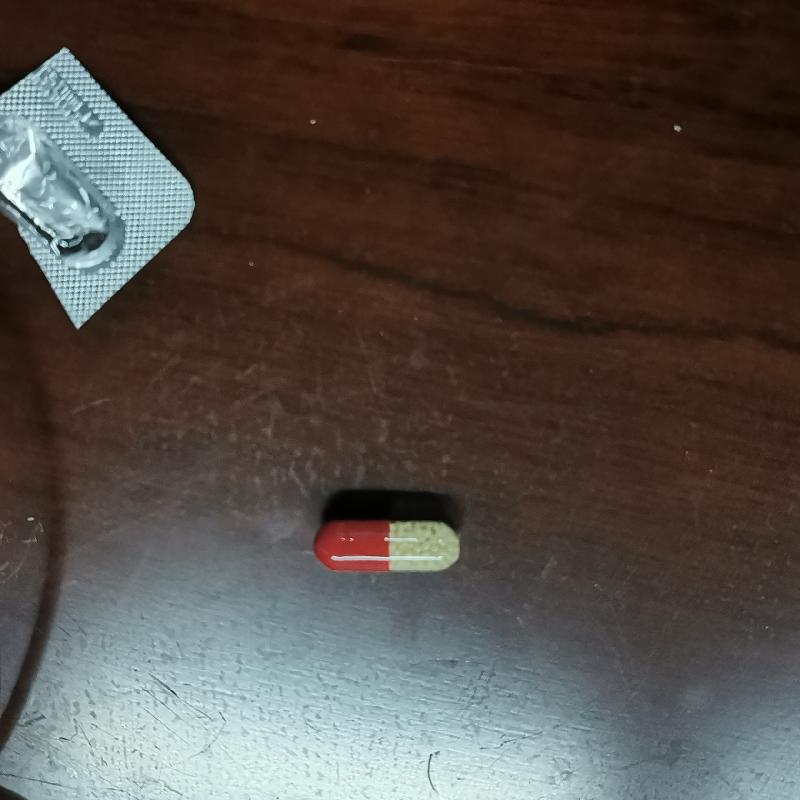pills: (309, 504, 468, 581)
